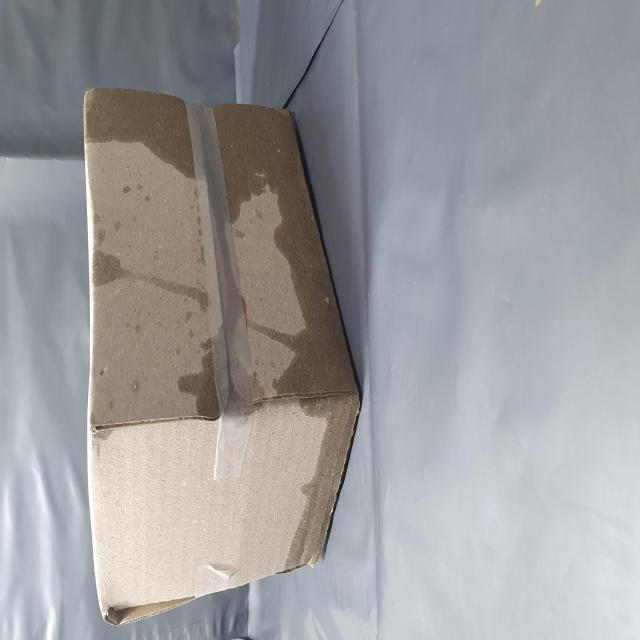wet: (18, 161, 309, 640)
